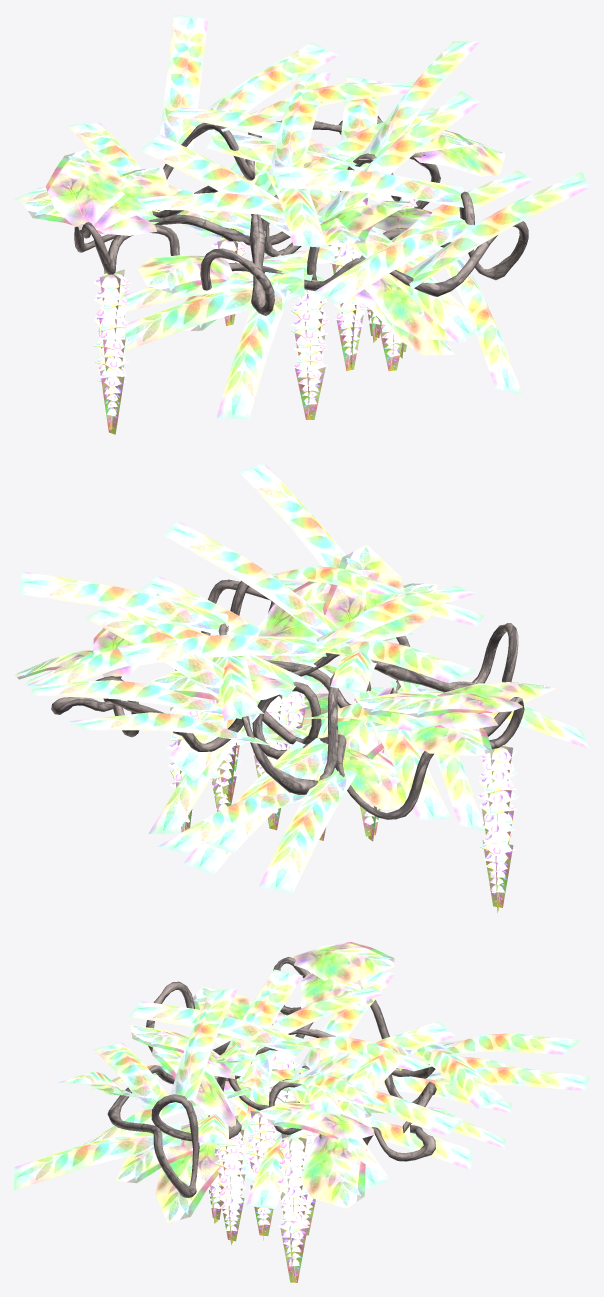
File: wysteria_small_SM.fbx
3 renders of one model, top to bottom at view 1: azimuth 30°, elevation 25°; view 2: azimuth 150°, elevation 25°; view 3: azimuth 270°, elevation 25°, orthographic. The views are drawn at different scales.
Parts seen in each view (by area): view 1: wysteria_small_SM_LOD0; view 2: wysteria_small_SM_LOD0; view 3: wysteria_small_SM_LOD0.
Part boxes in pixels (<box>): wysteria_small_SM_LOD0: <box>14,14,589,434</box>; wysteria_small_SM_LOD0: <box>14,463,589,913</box>; wysteria_small_SM_LOD0: <box>14,942,589,1282</box>.
Size of the model in its own units: 586 by 705 by 325.
Materials: 3 (3 with a texture image).
